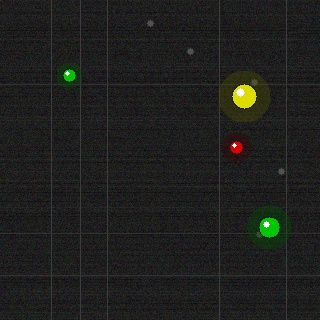green_normal: (257, 215, 281, 239), (61, 67, 77, 83)
red_fault: (228, 139, 244, 155)
yellow_warning: (230, 82, 258, 110)
